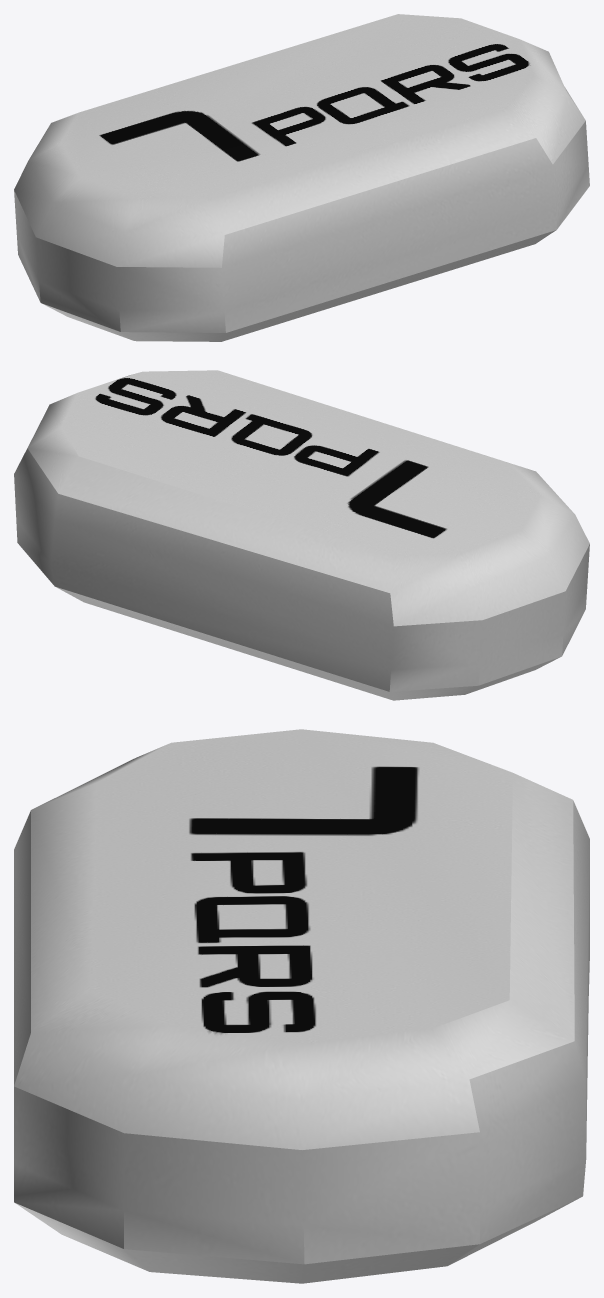
File: pqrs7_button.glb
3 renders of one model, top to bottom at view 1: azimuth 30°, elevation 25°; view 2: azimuth 150°, elevation 25°; view 3: azimuth 270°, elevation 25°, orthographic. The views are drawn at different scales.
Visible parts, largest first — view 1: pqrs7_button; view 2: pqrs7_button; view 3: pqrs7_button.
Part boxes in pixels (x1,y1,x2,y2): pqrs7_button: (14, 14, 589, 341); pqrs7_button: (14, 370, 589, 700); pqrs7_button: (14, 729, 589, 1283).
Bounding box in the file's own units: 0.00277 × 0.000842 × 0.00156.
Materials: 1 (1 with a texture image).
